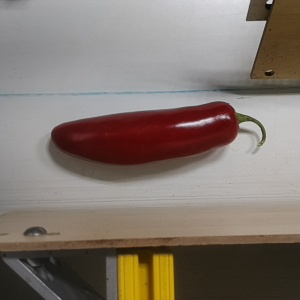Cut Point: (219, 100, 249, 143)
